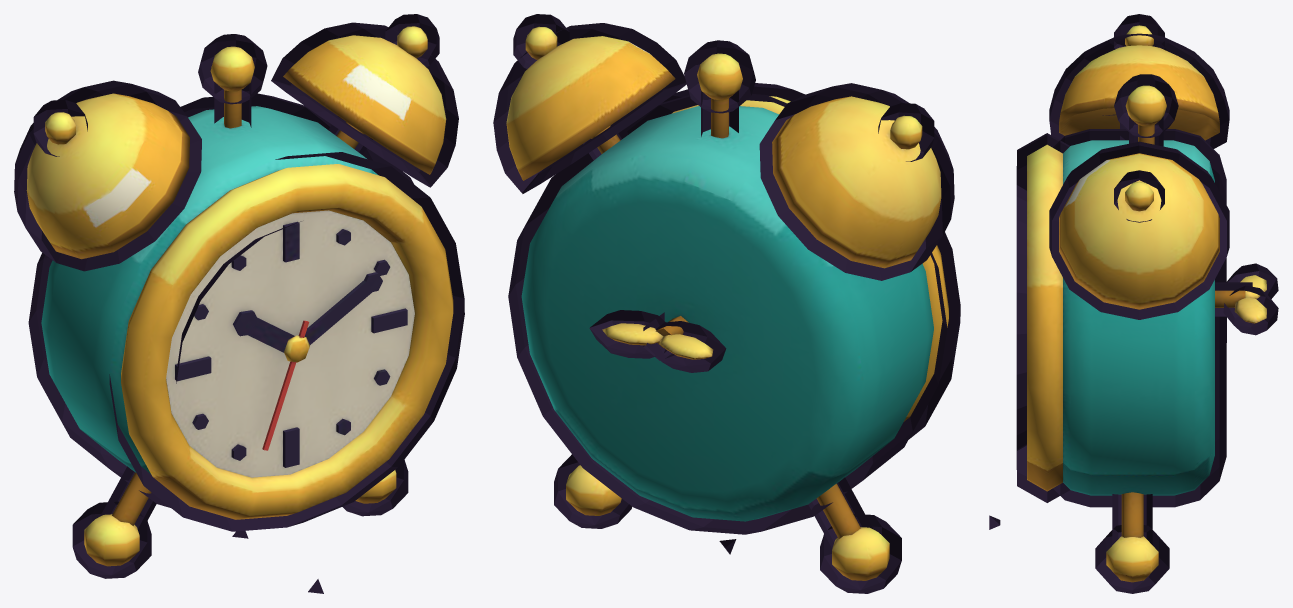
File: AlarmClock.glb
3 views of the same model, side by side, from view 1: azimuth 30°, elevation 25°; view 2: azimuth 150°, elevation 25°; view 3: azimuth 270°, elevation 25° (orthographic). The views are drawn at different scales.
Visible parts, largest first — view 1: AlarmClock, AlarmClock_Outline; view 2: AlarmClock, AlarmClock_Outline; view 3: AlarmClock, AlarmClock_Outline.
Part boxes in pixels (left/top/right/bottom): AlarmClock: left=26, top=26, right=453, bottom=566; AlarmClock_Outline: left=14, top=14, right=464, bottom=578; AlarmClock: left=506, top=26, right=948, bottom=580; AlarmClock_Outline: left=493, top=14, right=960, bottom=593; AlarmClock: left=1027, top=25, right=1266, bottom=582; AlarmClock_Outline: left=1016, top=14, right=1278, bottom=593.
Bounding box in the file's own units: 3.21 × 3.66 × 2.1.
Materials: 2 (2 with a texture image).
